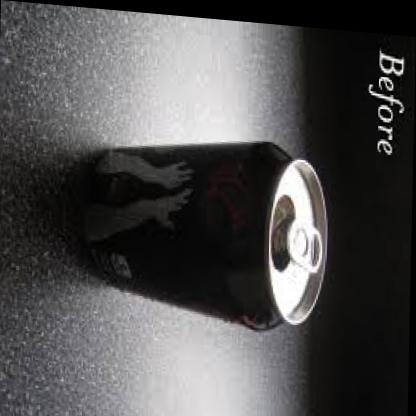trash: (81, 143, 326, 328)
